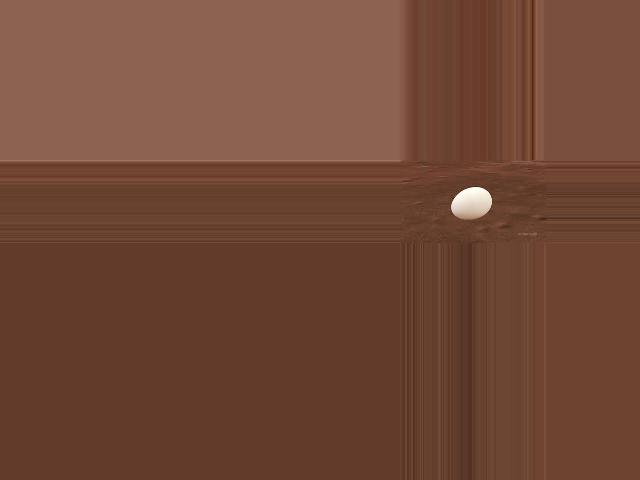egg: (450, 187, 491, 219)
